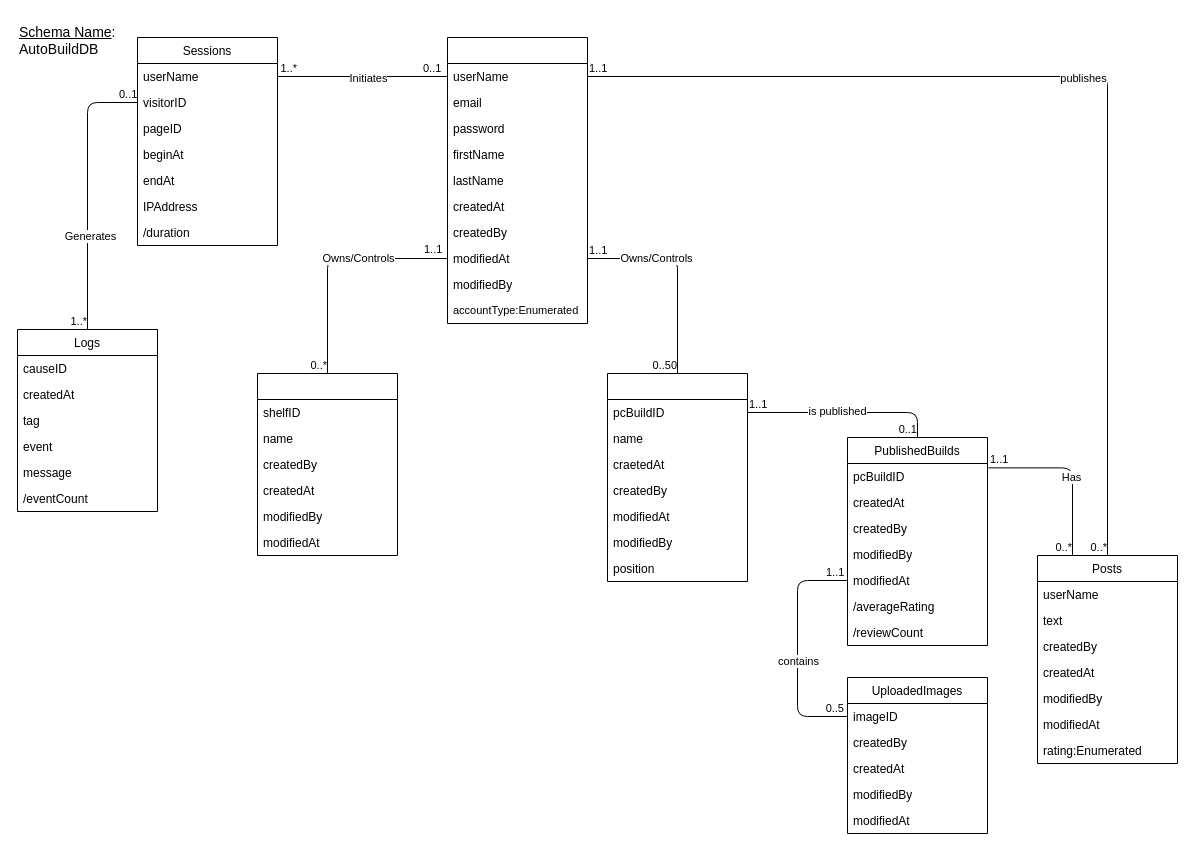
This 1195x853 diagram has some shape labels left out. The shapes that lost their labels are listed below. From the top down, each one's box as (x1, y1, x2, y2) in pixels, then its label:
(446, 36, 588, 324): UserAccounts
(256, 372, 398, 556): Shelves
(606, 372, 748, 582): PCBuilds
